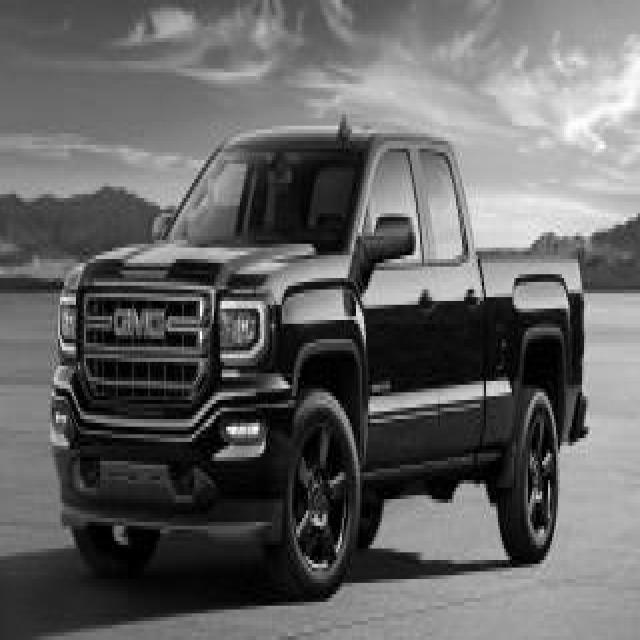Car: (50, 124, 586, 596)
